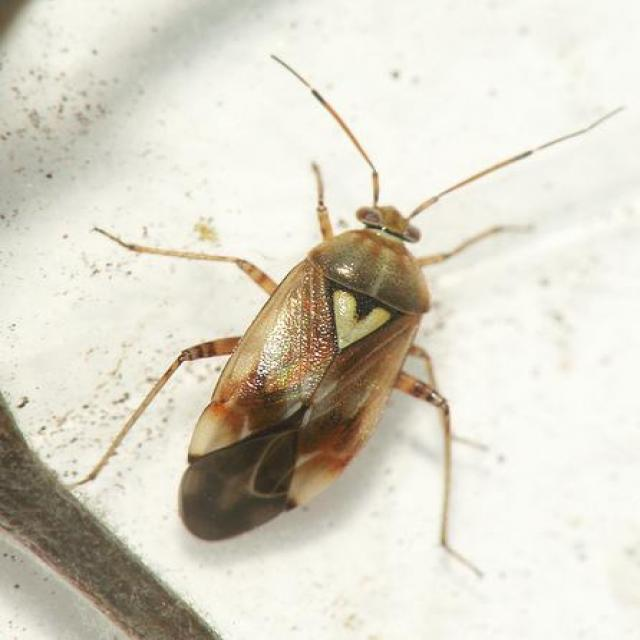Miridae-Adult-: (81, 32, 620, 569)
